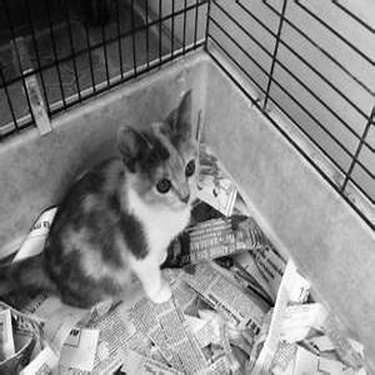cat: (1, 101, 202, 310)
